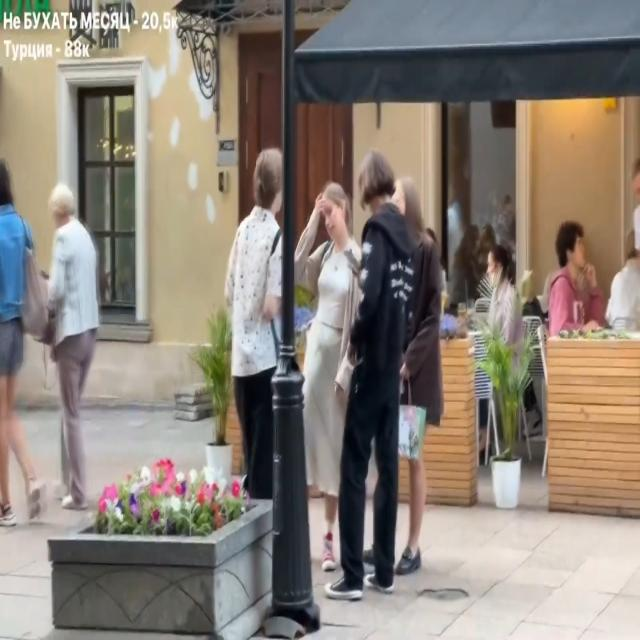Person: (330, 160, 442, 604), (226, 145, 291, 510), (38, 180, 103, 512), (0, 154, 47, 527), (544, 221, 606, 337), (606, 238, 640, 333)
